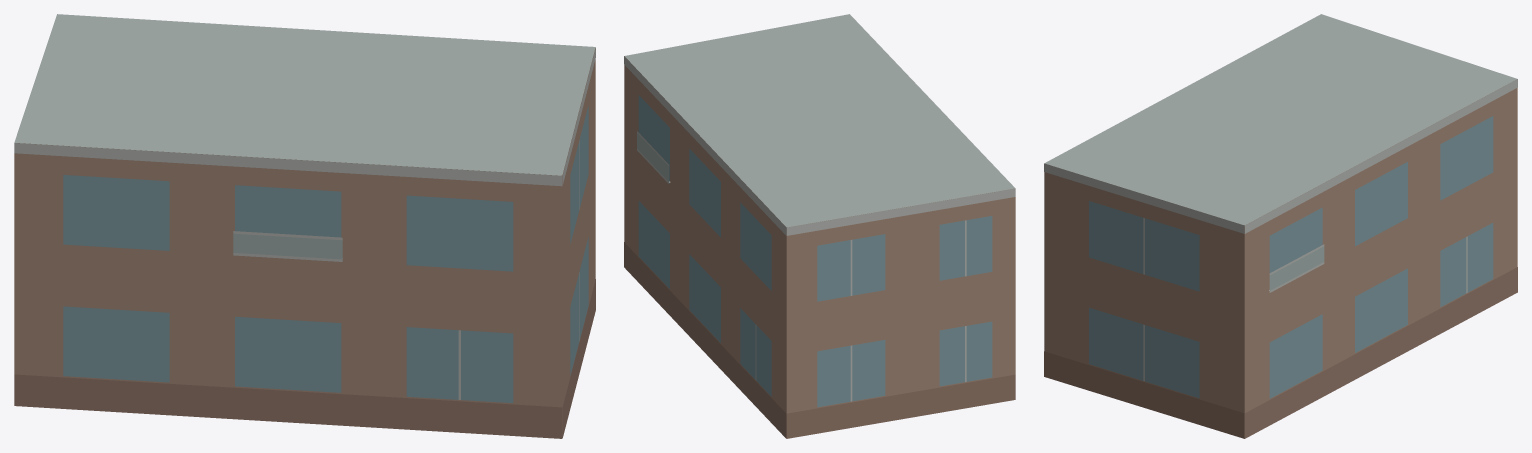
File: survey-upis-32780085.glb
The picture shows the model from 3 angles, left to right: view 1: azimuth 30°, elevation 25°; view 2: azimuth 150°, elevation 25°; view 3: azimuth 270°, elevation 25°; orthographic projection. The views are drawn at different scales.
Visible parts, largest first — view 1: survey-upis-32780085.tmp; view 2: survey-upis-32780085.tmp; view 3: survey-upis-32780085.tmp.
Part boxes in pixels (<box>): survey-upis-32780085.tmp: <box>14,14,595,438</box>; survey-upis-32780085.tmp: <box>624,14,1015,438</box>; survey-upis-32780085.tmp: <box>1044,14,1517,438</box>.
Bounding box in the file's own units: 12.97 × 6.1 × 12.28.
